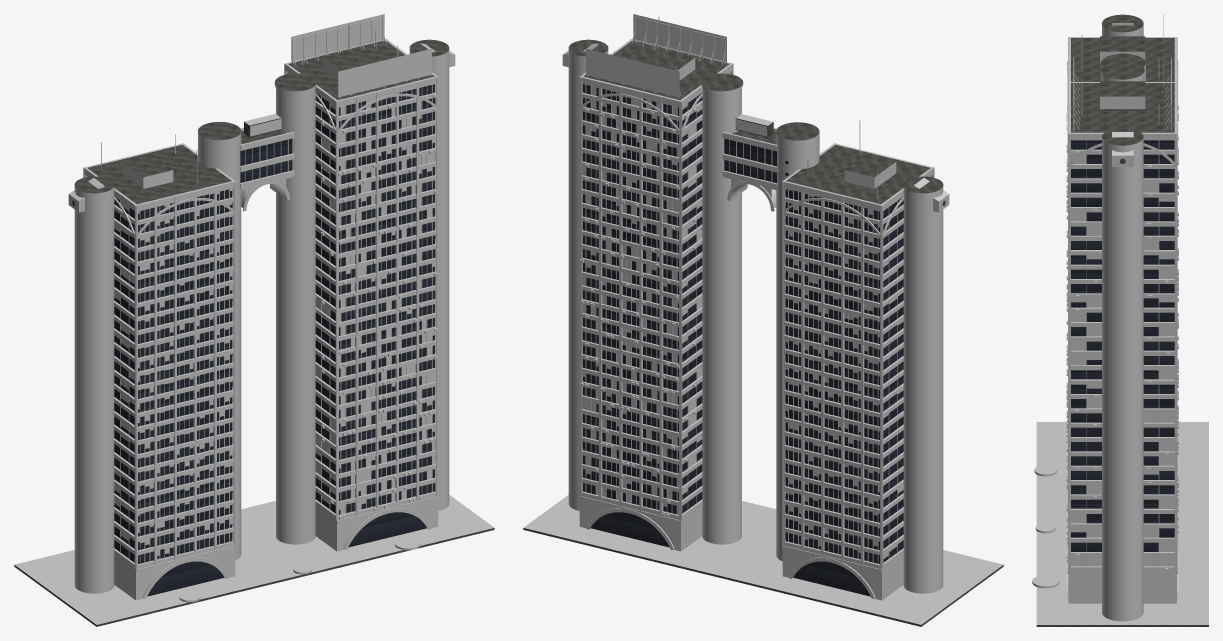
The model's file is genex.obj.
3 views of the same model, side by side, from view 1: azimuth 30°, elevation 25°; view 2: azimuth 150°, elevation 25°; view 3: azimuth 270°, elevation 25° (orthographic). The views are drawn at different scales.
Visible parts, largest first — view 1: TowerE_ConcreteAged, TowerW_ConcreteAged, TowerE_Glass, TowerW_Glass, CylE_ShaftConcrete, ShaftW_ShaftConcrete, Plaza_PBrick, Extras_Blinds, TowerE_Aluminium, ShaftE_ShaftConcrete, TowerW_Aluminium, Sign_SignZepter (+9 smaller); view 2: TowerE_ConcreteAged, TowerW_ConcreteAged, TowerE_Glass, TowerW_Glass, CylE_ShaftConcrete, ShaftW_ShaftConcrete, Plaza_PBrick, Extras_Blinds, TowerE_Aluminium, ShaftE_ShaftConcrete, TowerW_Aluminium, Sign_SignZepter (+11 smaller); view 3: ShaftE_ShaftConcrete, TowerE_ConcreteAged, Plaza_PBrick, TowerE_Glass, Extras_Blinds, TowerE_ConcreteDark, TowerW_ConcreteDark, Extras_PaintWhite, TowerE_Aluminium, TowerW_ConcreteAged, CylE_ConcreteDark, Plaza_Grass (+7 smaller).
Part boxes in pixels (x1,y1,x2,y2): TowerE_ConcreteAged: (284,38,438,551); TowerW_ConcreteAged: (83,143,235,600); TowerE_Glass: (315,84,434,547); TowerW_Glass: (114,189,232,596); CylE_ShaftConcrete: (276,88,315,544); ShaftW_ShaftConcrete: (74,186,114,593); Plaza_PBrick: (15,495,494,624); Extras_Blinds: (114,72,435,555); TowerE_Aluminium: (321,84,432,514); ShaftE_ShaftConcrete: (409,49,449,510); TowerW_Aluminium: (120,189,229,563); Sign_SignZepter: (291,14,431,97); TowerE_ConcreteAged: (579,38,733,551); TowerW_ConcreteAged: (782,143,934,600); TowerE_Glass: (583,84,702,547); TowerW_Glass: (785,189,903,596); CylE_ShaftConcrete: (702,88,741,544); ShaftW_ShaftConcrete: (903,186,943,593); Plaza_PBrick: (523,495,1002,624); Extras_Blinds: (582,72,931,559); TowerE_Aluminium: (585,84,696,514); ShaftE_ShaftConcrete: (568,49,608,510); TowerW_Aluminium: (788,189,897,563); Sign_SignZepter: (586,14,726,97); ShaftE_ShaftConcrete: (1102,137,1143,621); TowerE_ConcreteAged: (1066,81,1178,603); Plaza_PBrick: (1036,422,1208,624); TowerE_Glass: (1071,140,1174,551); Extras_Blinds: (1071,154,1174,566); TowerE_ConcreteDark: (1071,81,1174,132); TowerW_ConcreteDark: (1071,36,1174,81); Extras_PaintWhite: (1066,105,1178,571); TowerE_Aluminium: (1086,140,1159,566); TowerW_ConcreteAged: (1066,37,1178,495); CylE_ConcreteDark: (1100,61,1144,79); Plaza_Grass: (1032,465,1059,586).
Size of the model in its own units: 106 by 124 by 39.
